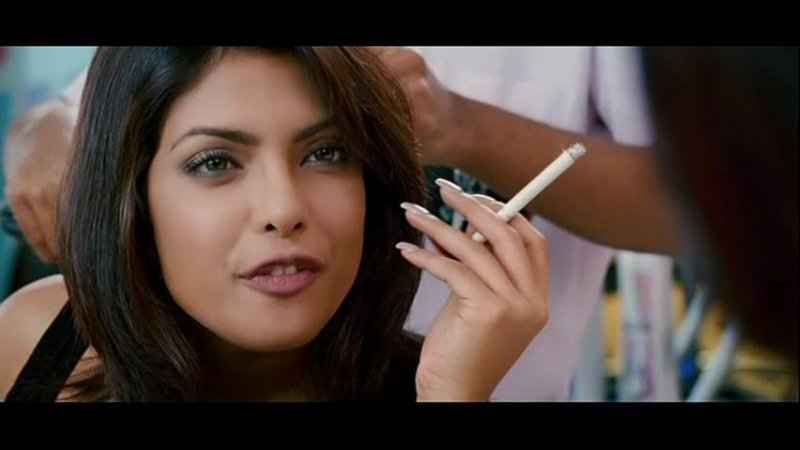cigarette: (473, 144, 591, 242)
